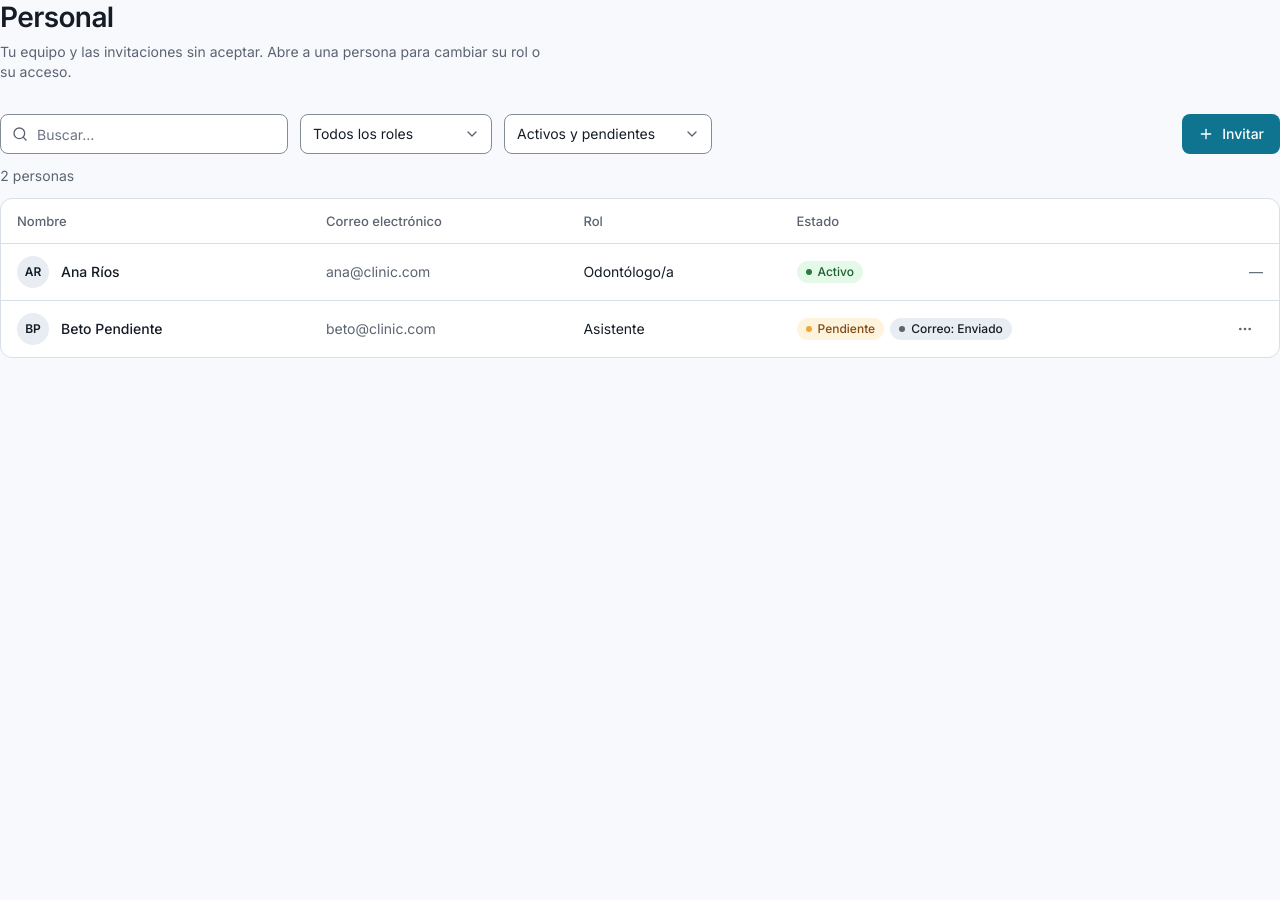
Test case: StaffView › un 404 al reenviar avisa sin «Reintentar» (no serviría) y recarga la lista
Check: the table named "personal" is shown, box [1,199,1279,356]
Click the button named "acciones de Beto": (1245, 328) [1227,310,1263,346]
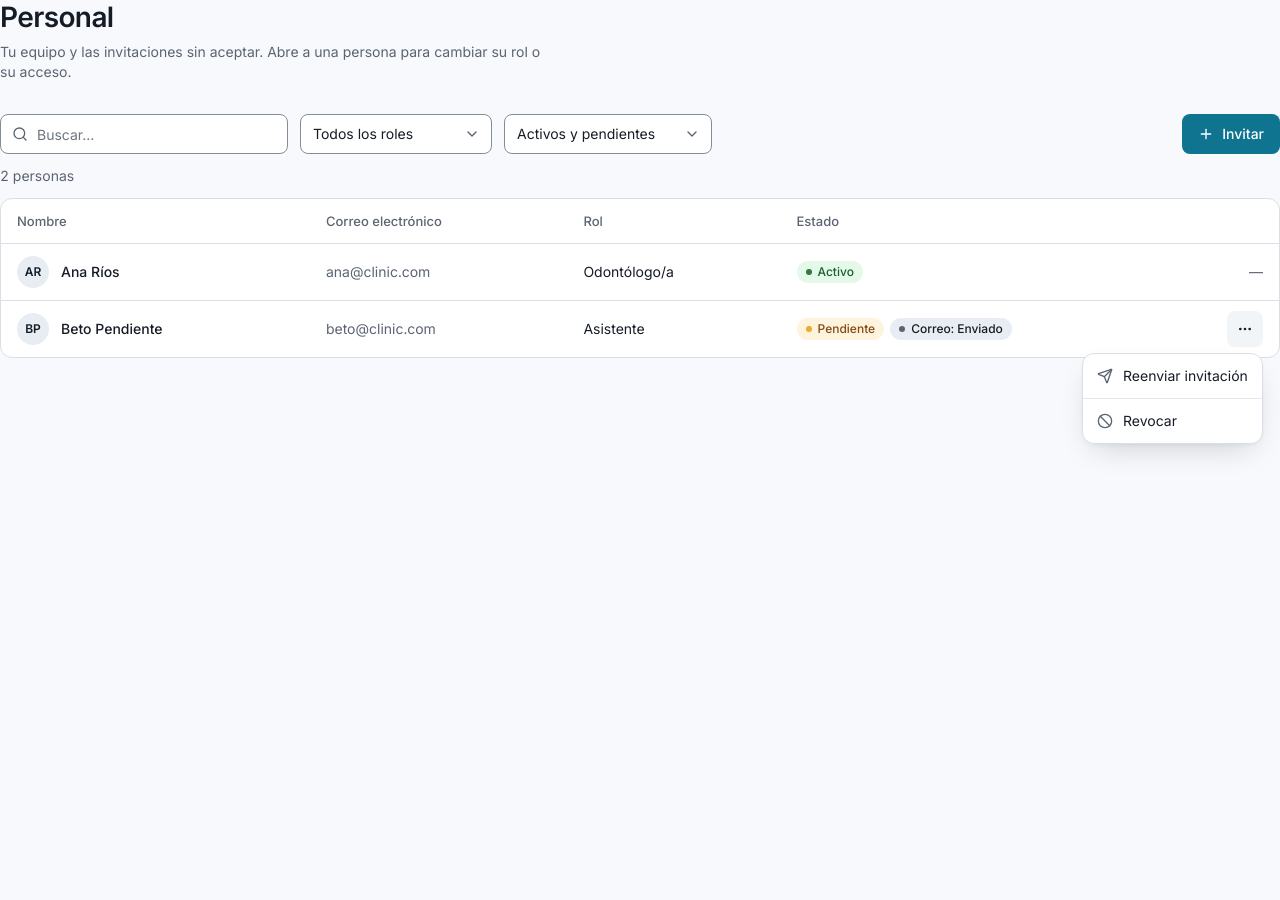
Click the menu item "Reenviar invitación": (1172, 376) [1097,367,1248,384]
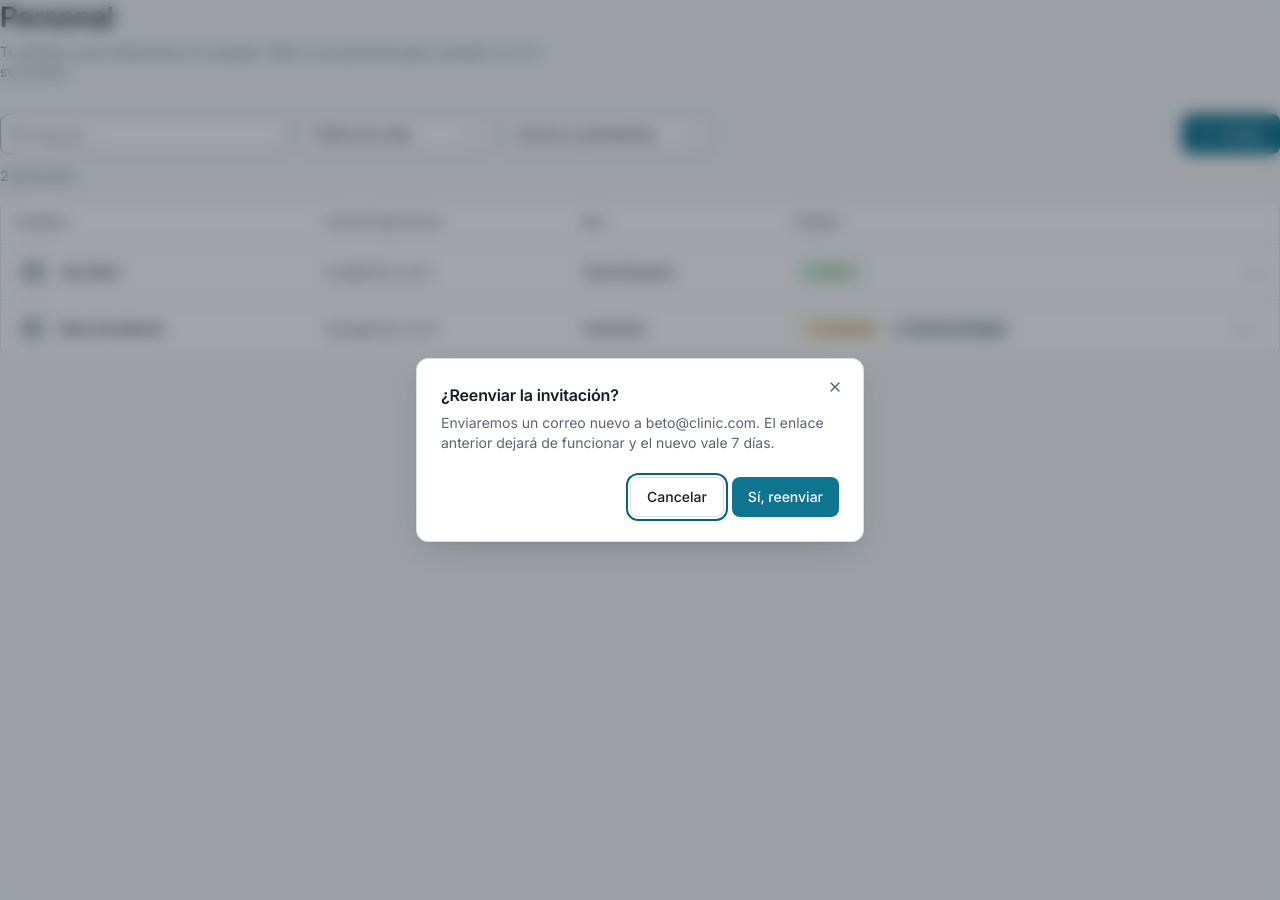
Click the button "Sí, reenviar": (785, 497) [732,477,839,517]
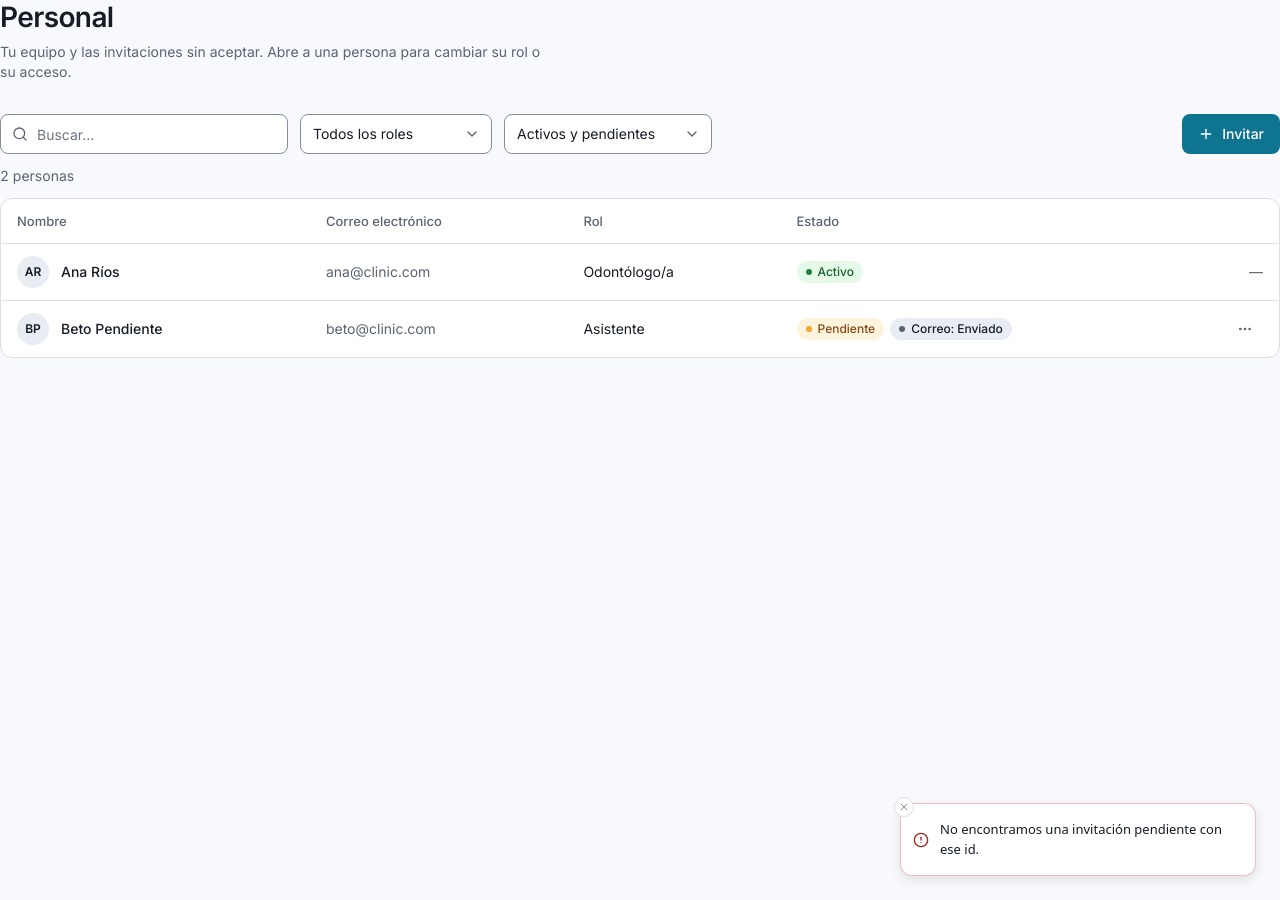
Check: the text "No encontramos una invitación pendiente con ese id." is shown, box [940,820,1239,859]
